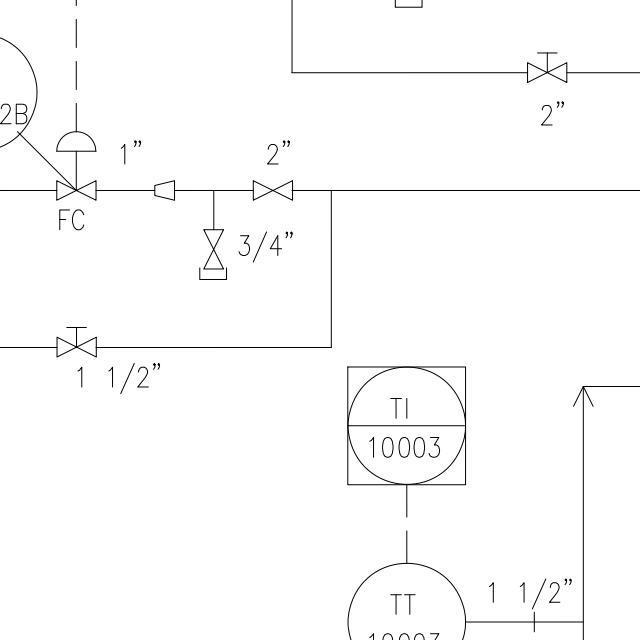EC: (194, 203, 232, 286)
FC: (49, 123, 101, 207)
GV: (246, 176, 298, 206), (202, 225, 226, 272)
HV: (522, 45, 574, 87), (53, 322, 99, 362)
SP: (145, 176, 180, 203)
